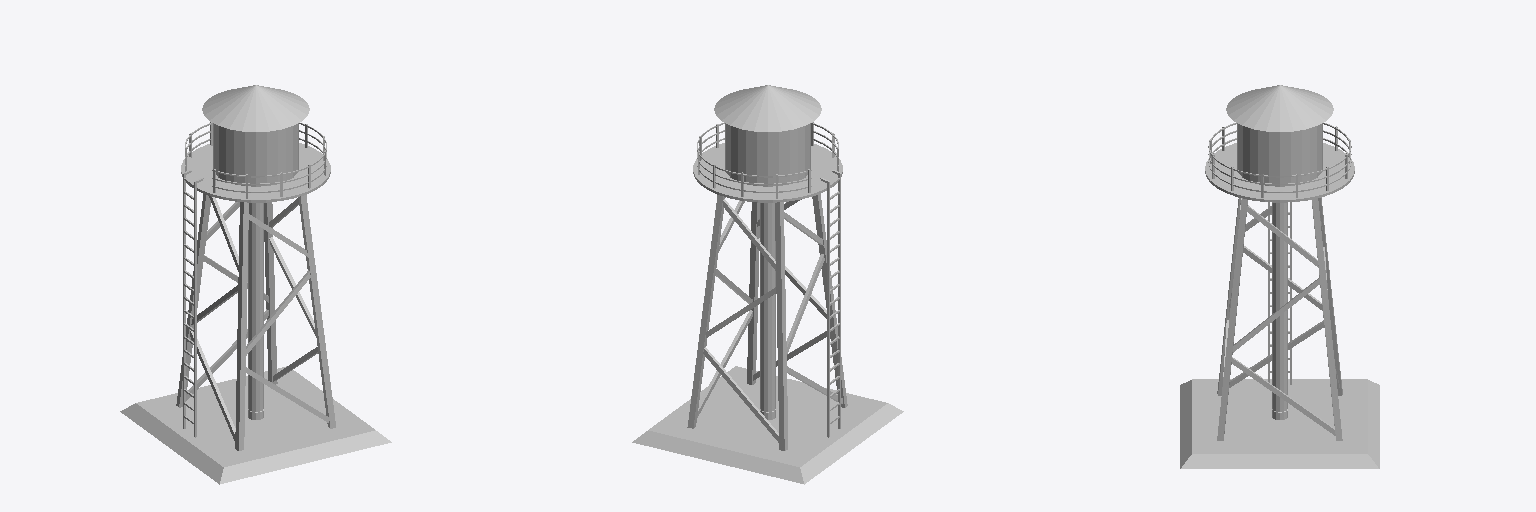
File: water tank.obj
3 renders of one model, left to right at view 1: azimuth 30°, elevation 25°; view 2: azimuth 150°, elevation 25°; view 3: azimuth 270°, elevation 25°, orthographic.
Visible parts, largest first — view 1: water_tank_Cylinder.003; view 2: water_tank_Cylinder.003; view 3: water_tank_Cylinder.003.
Boxes of the visible parts, x1=… form: water_tank_Cylinder.003: x1=120, y1=85, x2=391, y2=484; water_tank_Cylinder.003: x1=632, y1=85, x2=903, y2=484; water_tank_Cylinder.003: x1=1180, y1=85, x2=1379, y2=468.
Bounding box in the file's own units: 9.83 × 18.61 × 9.83.